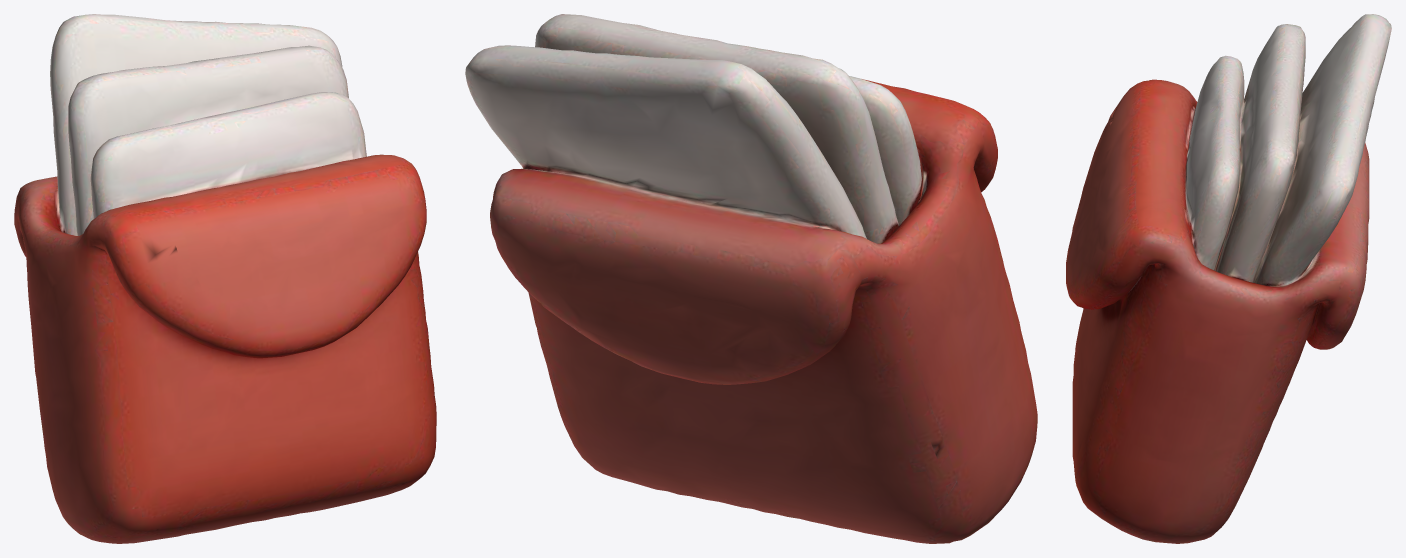
The model's file is step-5-submission.glb.
The picture shows the model from 3 angles, left to right: view 1: azimuth 30°, elevation 25°; view 2: azimuth 150°, elevation 25°; view 3: azimuth 270°, elevation 25°; orthographic projection. The views are drawn at different scales.
Visible parts, largest first — view 1: tripo_node_22998957-041a-4990-9133-32c6a00700c3; view 2: tripo_node_22998957-041a-4990-9133-32c6a00700c3; view 3: tripo_node_22998957-041a-4990-9133-32c6a00700c3.
Part boxes in pixels (x1,y1,x2,y2): tripo_node_22998957-041a-4990-9133-32c6a00700c3: (14, 14, 436, 543); tripo_node_22998957-041a-4990-9133-32c6a00700c3: (465, 14, 1037, 543); tripo_node_22998957-041a-4990-9133-32c6a00700c3: (1066, 14, 1391, 543).
Bounding box in the file's own units: 0.817 × 0.9776 × 0.6638.
1 material, 1 textured.
